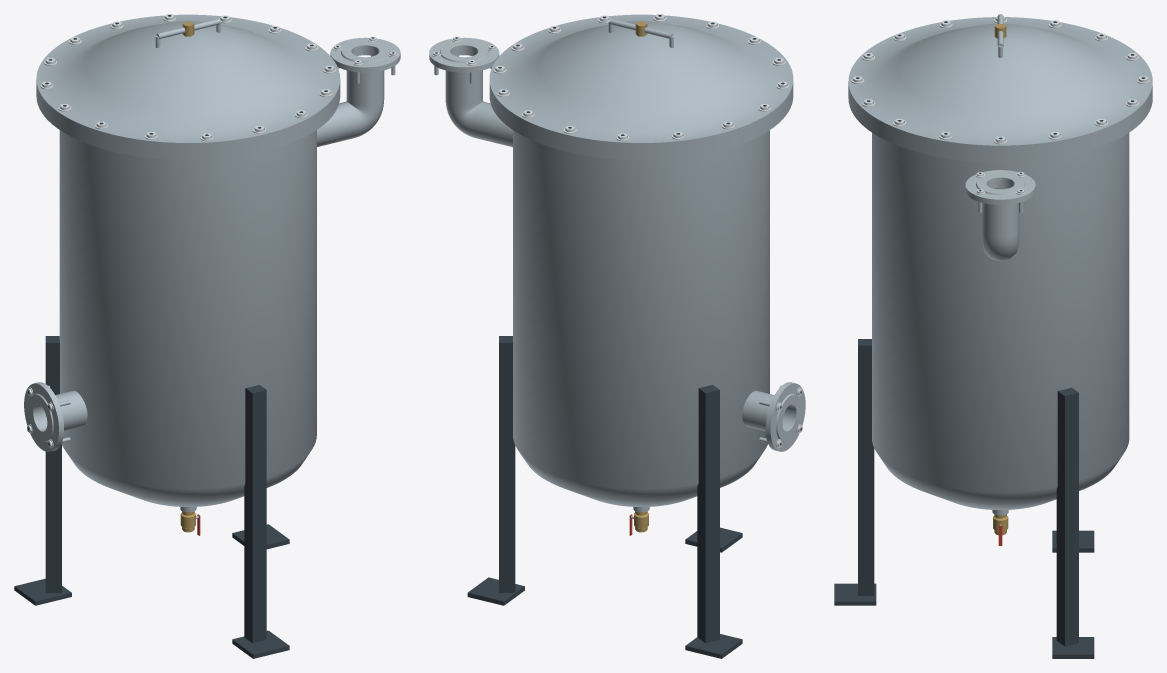
File: combined-filter.glb
3 renders of one model, left to right at view 1: azimuth 30°, elevation 25°; view 2: azimuth 150°, elevation 25°; view 3: azimuth 270°, elevation 25°, orthographic.
Parts seen in each view (by area): view 1: Thùng, Nắp, Chân, Thùng lọc ngoài, Mặt bích cửa ra, Mặt bích cửa vào, Nắp trên và bu lông; view 2: Thùng, Nắp, Chân, Thùng lọc ngoài, Mặt bích cửa ra, Mặt bích cửa vào, Nắp trên và bu lông; view 3: Thùng, Nắp, Chân, Mặt bích cửa ra, Thùng lọc ngoài, Nắp trên và bu lông.
Part boxes in pixels (x1,y1,x2,y2): Thùng: (34,89,340,512); Nắp: (36,14,340,151); Chân: (14,336,289,658); Thùng lọc ngoài: (334,70,384,142); Mặt bích cửa ra: (330,36,400,83); Mặt bích cửa vào: (24,382,70,451); Nắp trên và bu lông: (40,14,336,141); Thùng: (489,90,795,512); Nắp: (489,14,793,151); Chân: (467,336,742,658); Thùng lọc ngoài: (445,70,494,142); Mặt bích cửa ra: (429,36,499,83); Mặt bích cửa vào: (759,382,805,451); Nắp trên và bu lông: (493,14,789,141); Thùng: (848,90,1152,515); Nắp: (848,17,1152,153); Chân: (834,339,1094,658); Mặt bích cửa ra: (965,170,1035,212); Thùng lọc ngoài: (982,203,1019,261); Nắp trên và bu lông: (851,14,1149,144).
Bounding box in the file's own units: 3.53 × 5.38 × 2.72.
